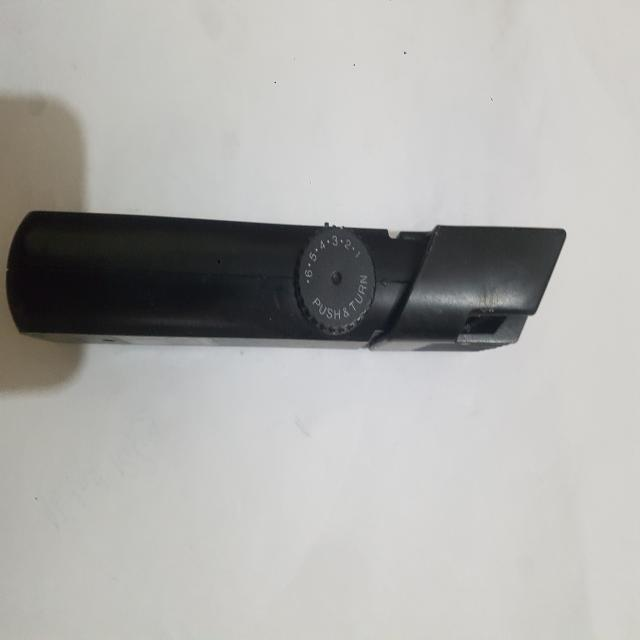electronic: (6, 206, 566, 352)
